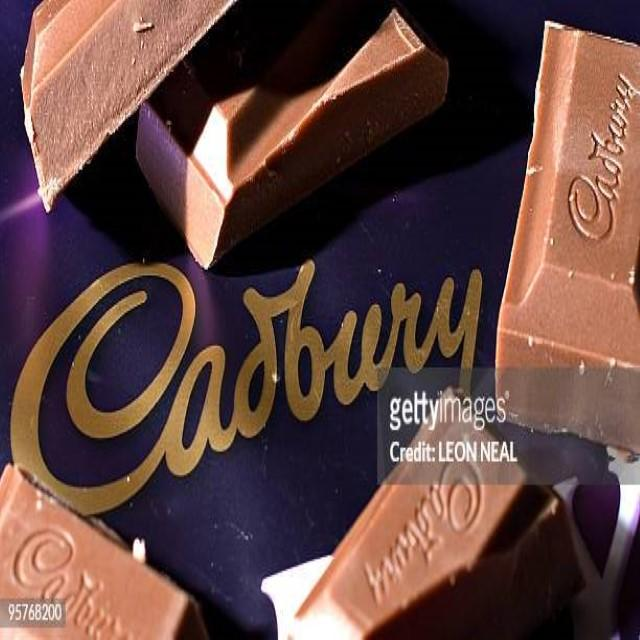cadbury_chocolate: (10, 205, 575, 507)
